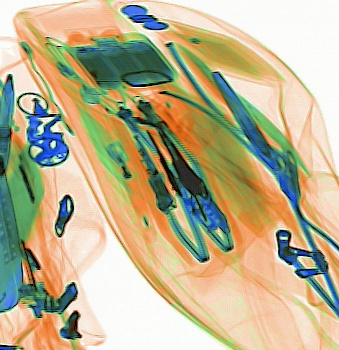lighter: (102, 138, 155, 220)
